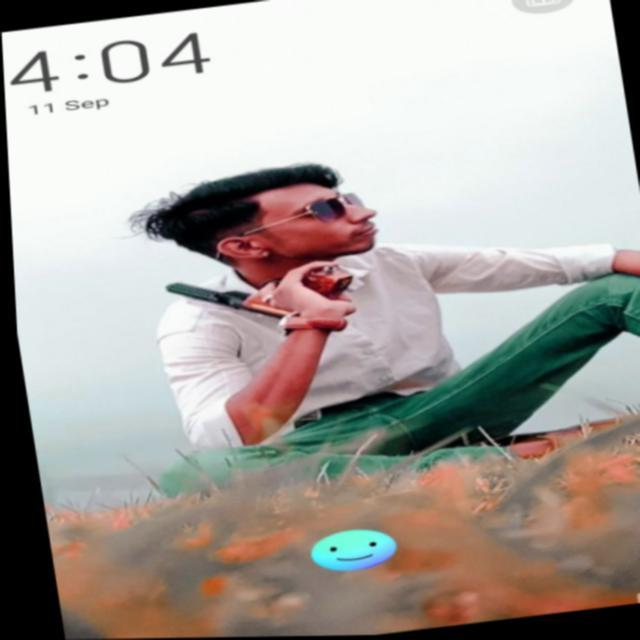weapon: (156, 260, 358, 335)
